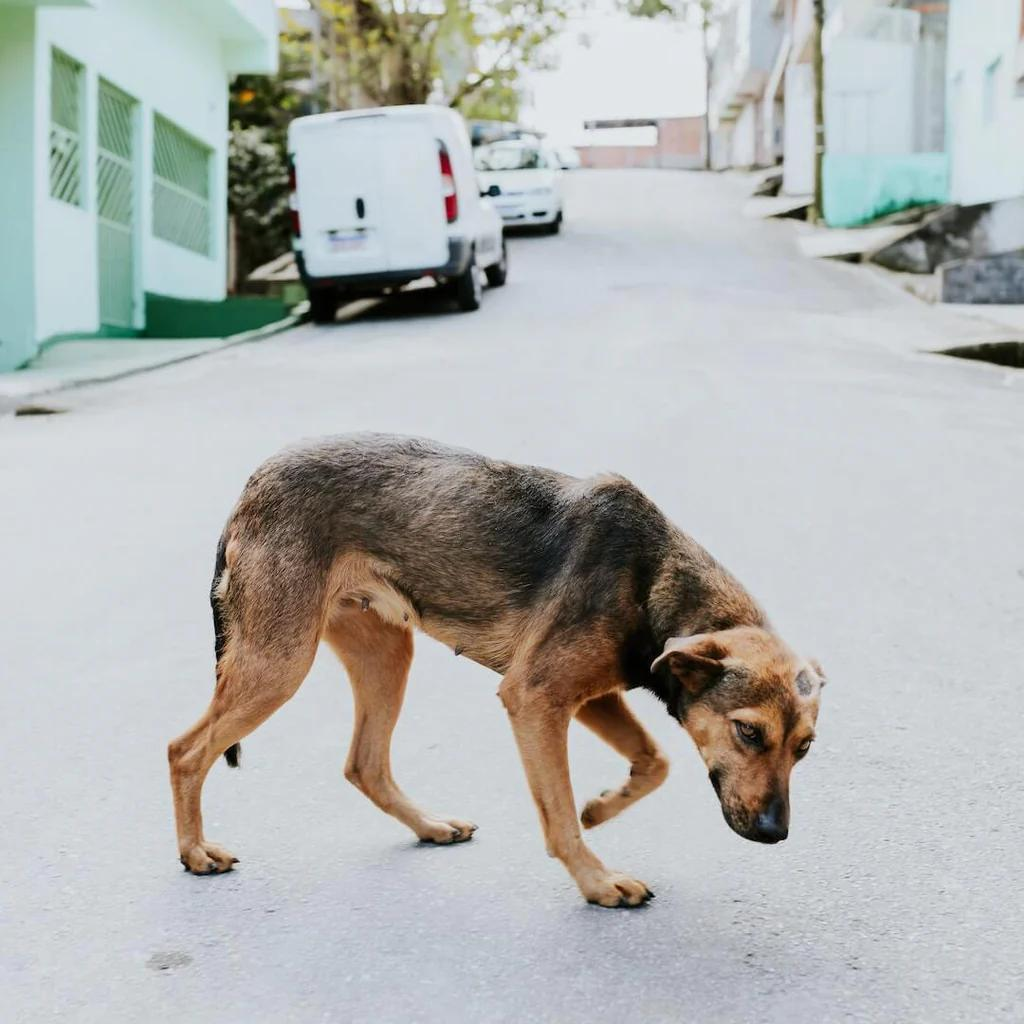fracture: (528, 680, 677, 862)
